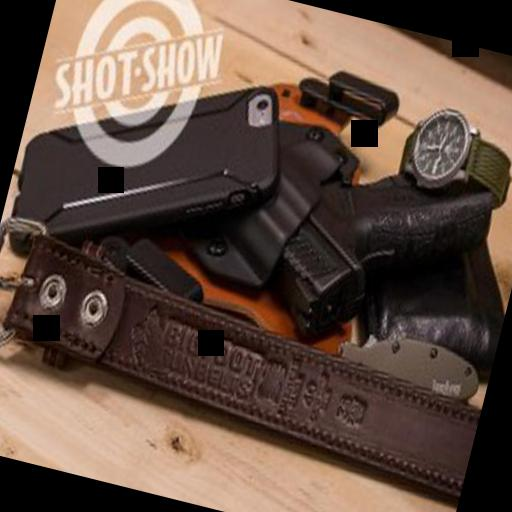Handgun: (242, 133, 498, 362)
